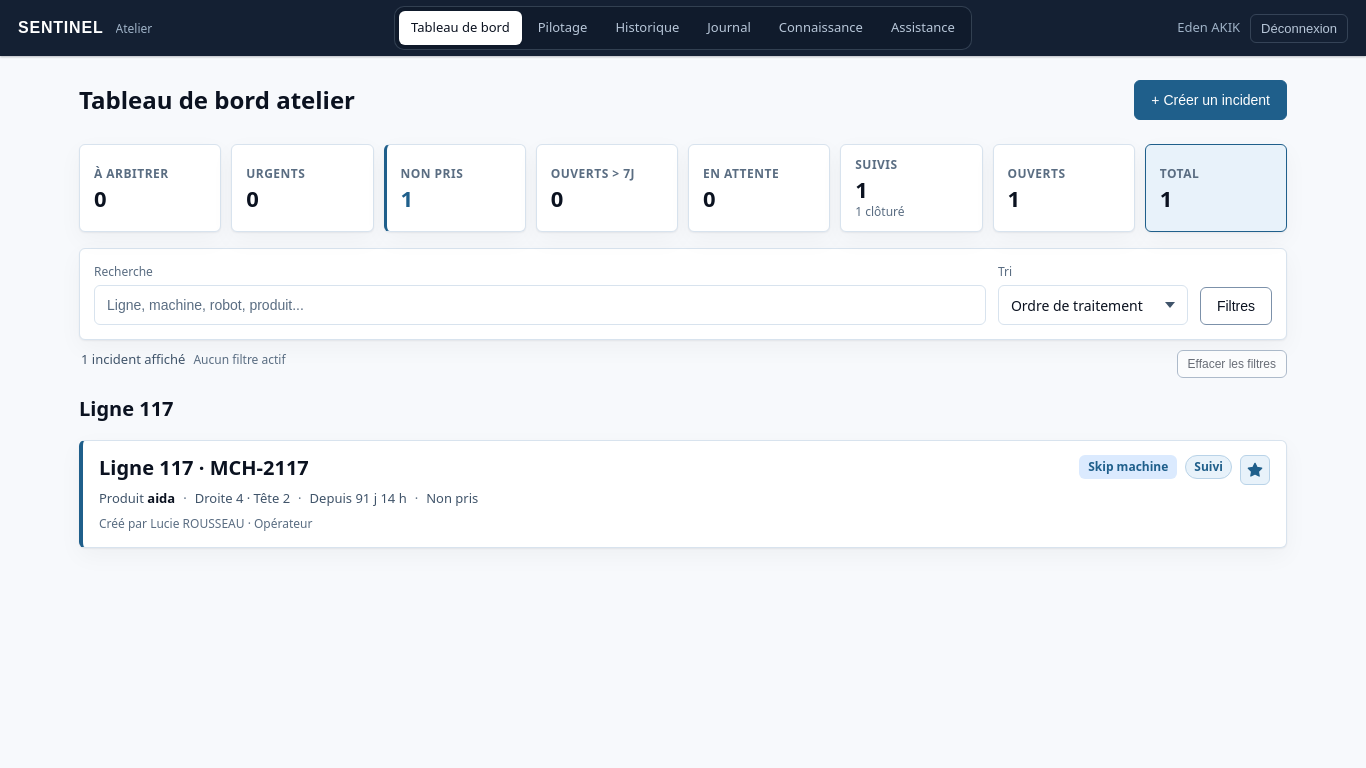
Scenario: WorkshopDashboardPage — suivis résolus séparés (lot 7D, LIST-04, DR-12) › affiche un bouton "Charger la suite" quand une page suivante de suivis résolus existe
Click the text "Suivis". click: (876,165)
box: [855,157,898,173]
(page scrolled)
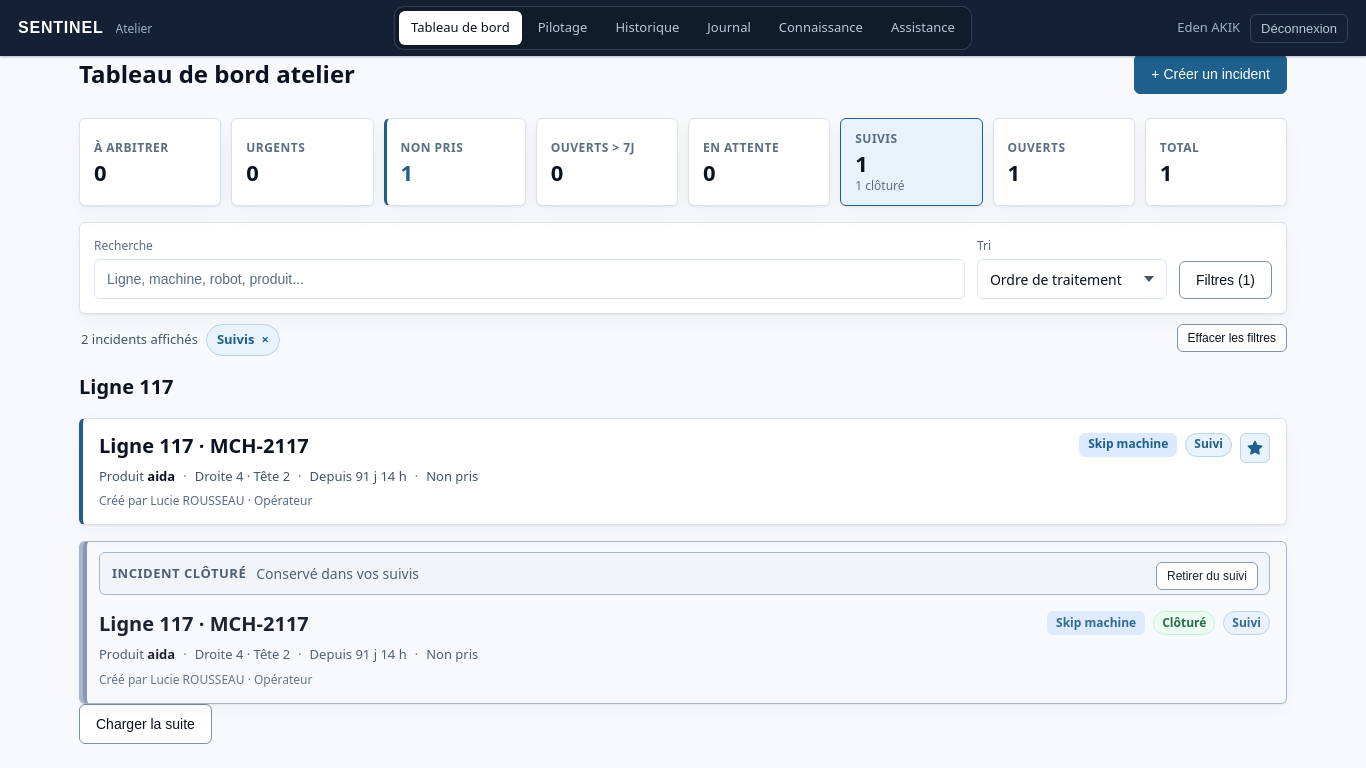
Expected: the button "Charger la suite" is shown, [79,704,212,744]
